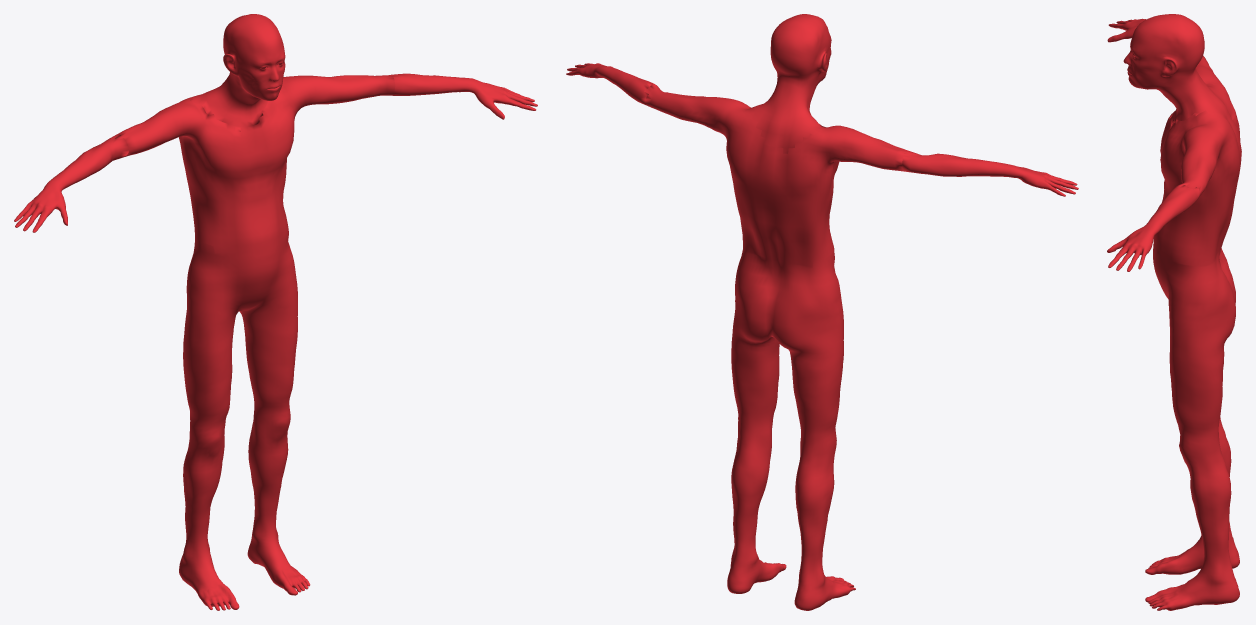
The model's file is paganini_test.fbx.
The picture shows the model from 3 angles, left to right: view 1: azimuth 30°, elevation 25°; view 2: azimuth 150°, elevation 25°; view 3: azimuth 270°, elevation 25°; orthographic projection. The views are drawn at different scales.
Visible parts, largest first — view 1: simply_coll; view 2: simply_coll; view 3: simply_coll.
Boxes of the visible parts, x1=… form: simply_coll: x1=14, y1=14, x2=537, y2=610; simply_coll: x1=566, y1=14, x2=1078, y2=610; simply_coll: x1=1107, y1=14, x2=1241, y2=610.
Size of the model in its own units: 1332 by 1417 by 302.
